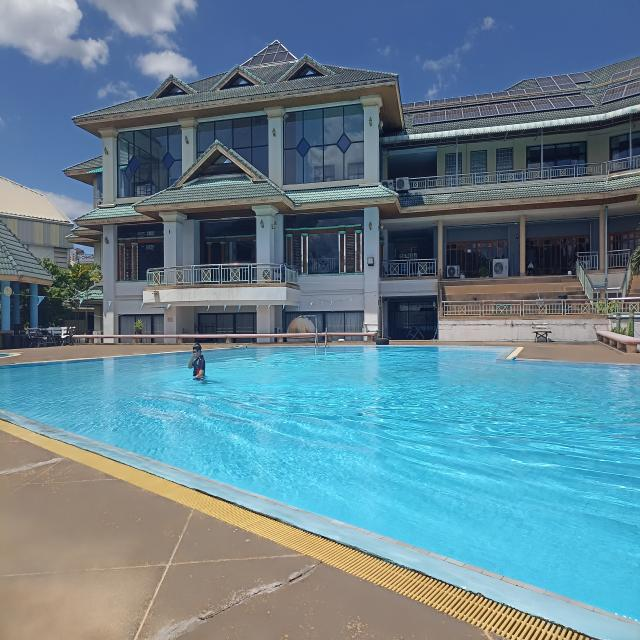Swimming: (175, 334, 222, 396)
